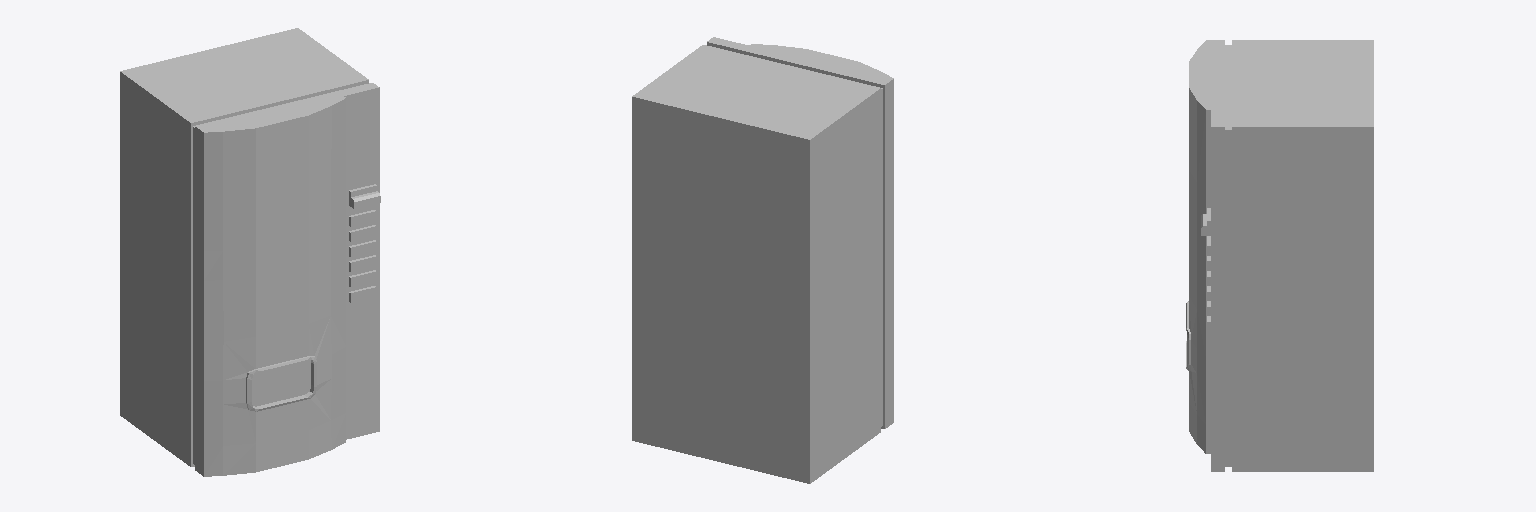
The model's file is soda_machine.obj.
3 renders of one model, left to right at view 1: azimuth 30°, elevation 25°; view 2: azimuth 150°, elevation 25°; view 3: azimuth 270°, elevation 25°, orthographic.
Parts seen in each view (by area): view 1: pCube43; view 2: pCube43; view 3: pCube43.
Boxes of the visible parts, x1=… form: pCube43: x1=120, y1=28, x2=380, y2=476; pCube43: x1=632, y1=37, x2=893, y2=483; pCube43: x1=1186, y1=40, x2=1373, y2=471.
Size of the model in its own units: 99.06 by 183 by 90.54.